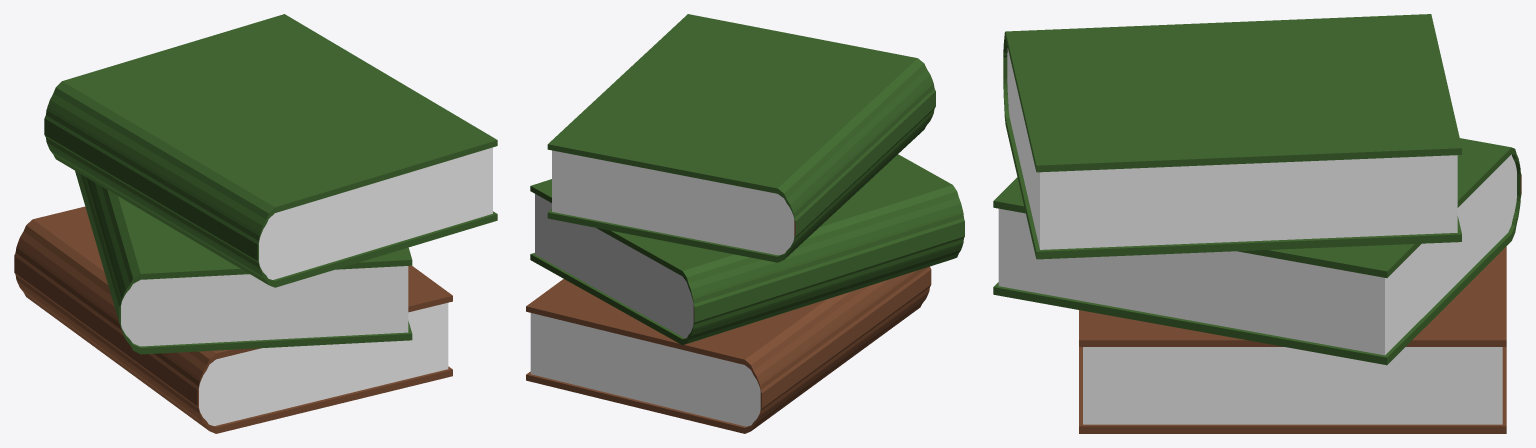
The model's file is uploads_files_1880511_BookStack.fbx.
3 renders of one model, left to right at view 1: azimuth 30°, elevation 25°; view 2: azimuth 150°, elevation 25°; view 3: azimuth 270°, elevation 25°, orthographic. The views are drawn at different scales.
Visible parts, largest first — view 1: Book Stack; view 2: Book Stack; view 3: Book Stack.
Part boxes in pixels (bbox=[...]): Book Stack: bbox=[14, 14, 497, 433]; Book Stack: bbox=[526, 14, 964, 433]; Book Stack: bbox=[993, 14, 1521, 433].
Bounding box in the file's own units: 54.8 × 35.41 × 59.82.
